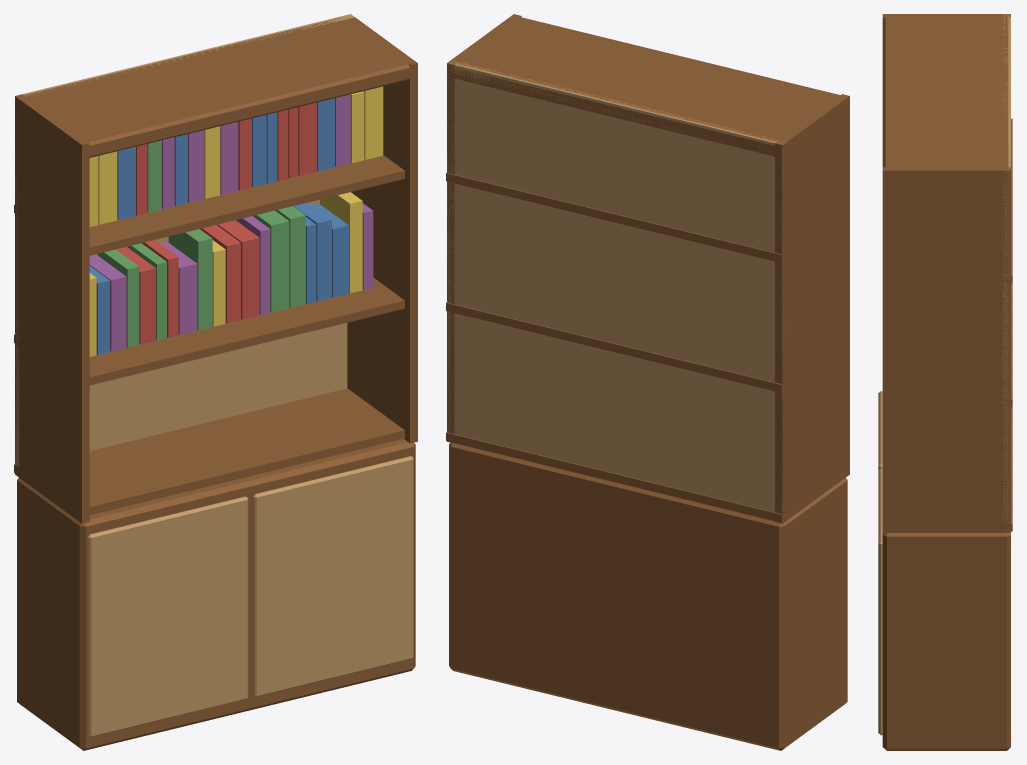
The model's file is bookshelf.glb.
3 renders of one model, left to right at view 1: azimuth 30°, elevation 25°; view 2: azimuth 150°, elevation 25°; view 3: azimuth 270°, elevation 25°, orthographic. The views are drawn at different scales.
Visible parts, largest first — view 1: bookshelf; view 2: bookshelf; view 3: bookshelf.
Part boxes in pixels (<box>): bookshelf: <box>14,14,417,750</box>; bookshelf: <box>446,14,849,750</box>; bookshelf: <box>878,14,1012,750</box>.
Size of the model in its own units: 1.3 by 2.25 by 0.47.
